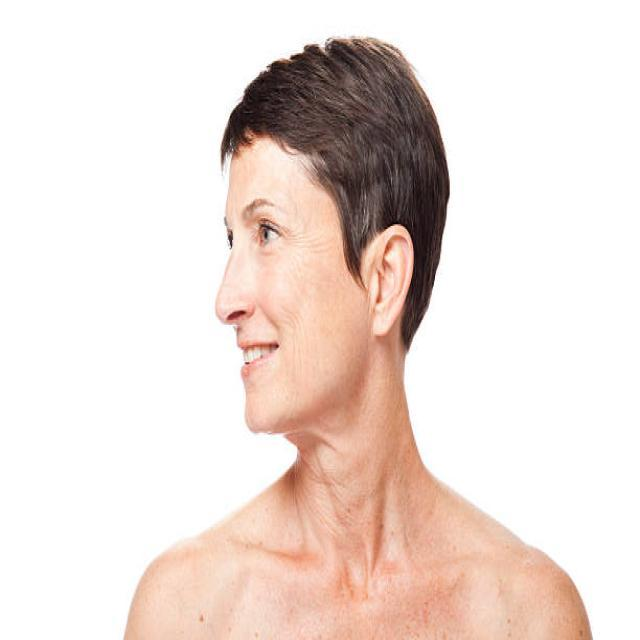dry: (279, 201, 349, 389)
